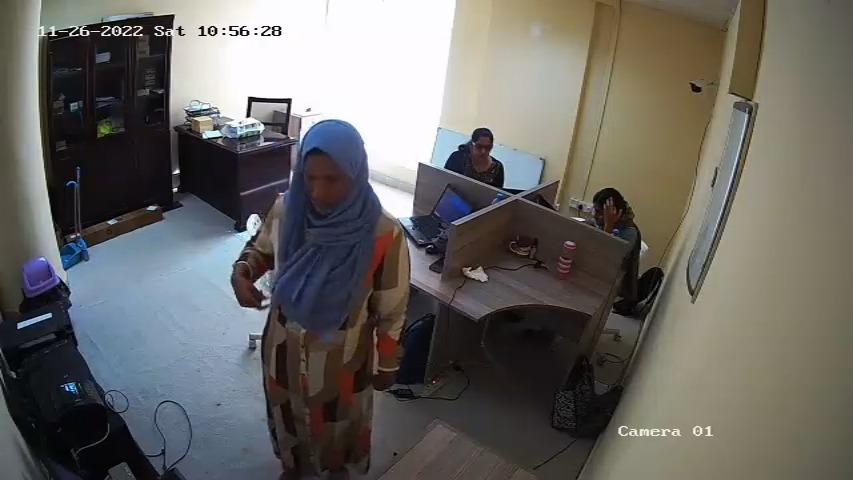no_apron: (275, 221, 372, 439)
